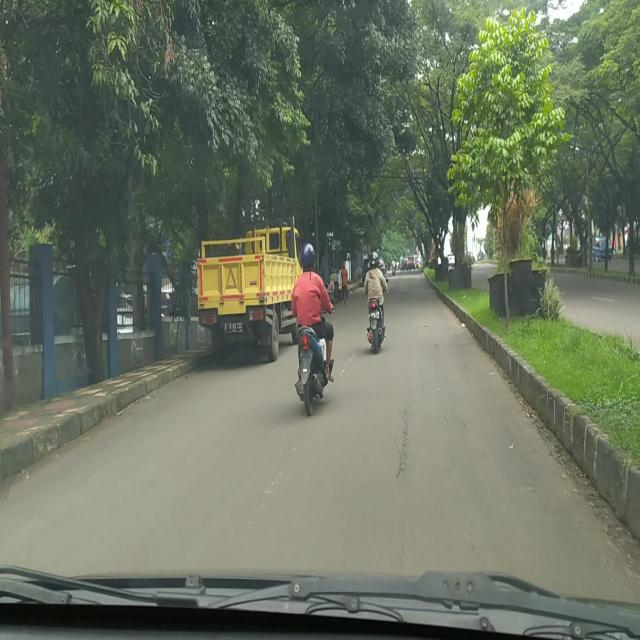Drain Hole: (398, 404, 408, 482)
